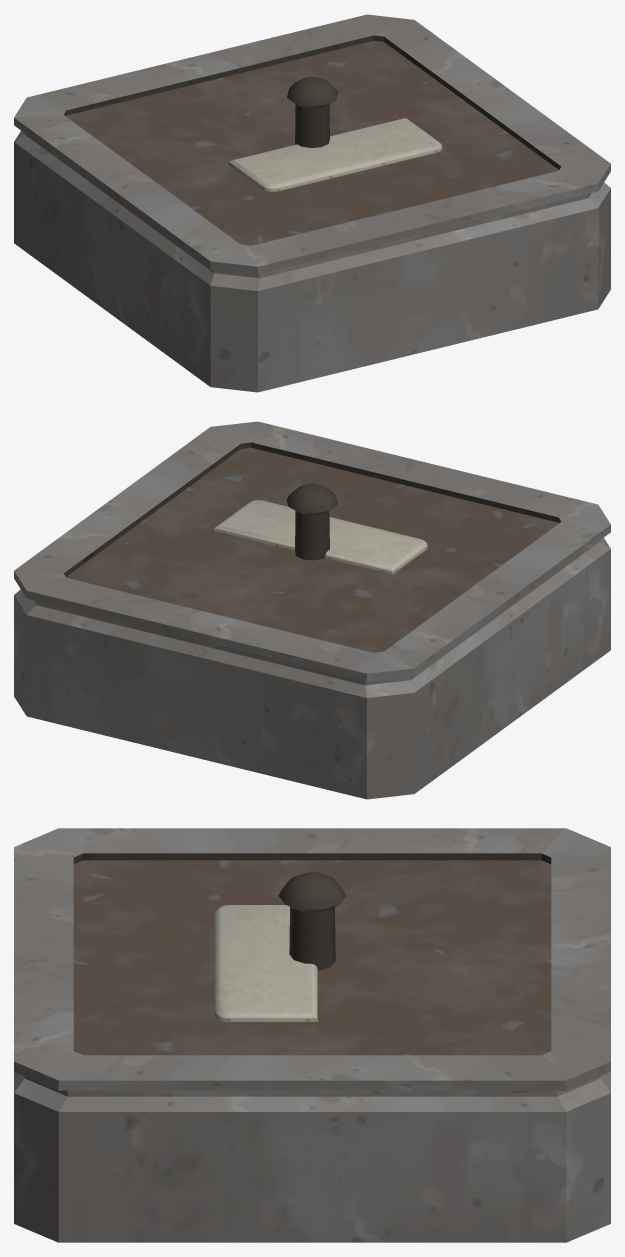
File: prop.glb
3 views of the same model, one above another, from view 1: azimuth 30°, elevation 25°; view 2: azimuth 150°, elevation 25°; view 3: azimuth 270°, elevation 25° (orthographic). The views are drawn at different scales.
Visible parts, largest first — view 1: Prop_Planter_Single, Prop_ACUnit, Prop_Bollard; view 2: Prop_Planter_Single, Prop_ACUnit, Prop_Bollard; view 3: Prop_Planter_Single, Prop_ACUnit, Prop_Bollard.
Part boxes in pixels (x1,y1,x2,y2): Prop_Planter_Single: (14, 14, 610, 392); Prop_ACUnit: (228, 118, 442, 191); Prop_Bollard: (287, 77, 337, 148); Prop_Planter_Single: (14, 421, 610, 799); Prop_ACUnit: (213, 500, 427, 574); Prop_Bollard: (287, 484, 337, 560); Prop_Planter_Single: (14, 828, 610, 1242); Prop_ACUnit: (214, 905, 317, 1021); Prop_Bollard: (278, 872, 346, 970).
Size of what is drawn, in the model's own units: 2 by 0.9057 by 2.
Materials: 3 (3 with a texture image).
